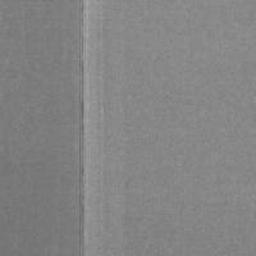Welding line: (77, 0, 86, 256)
